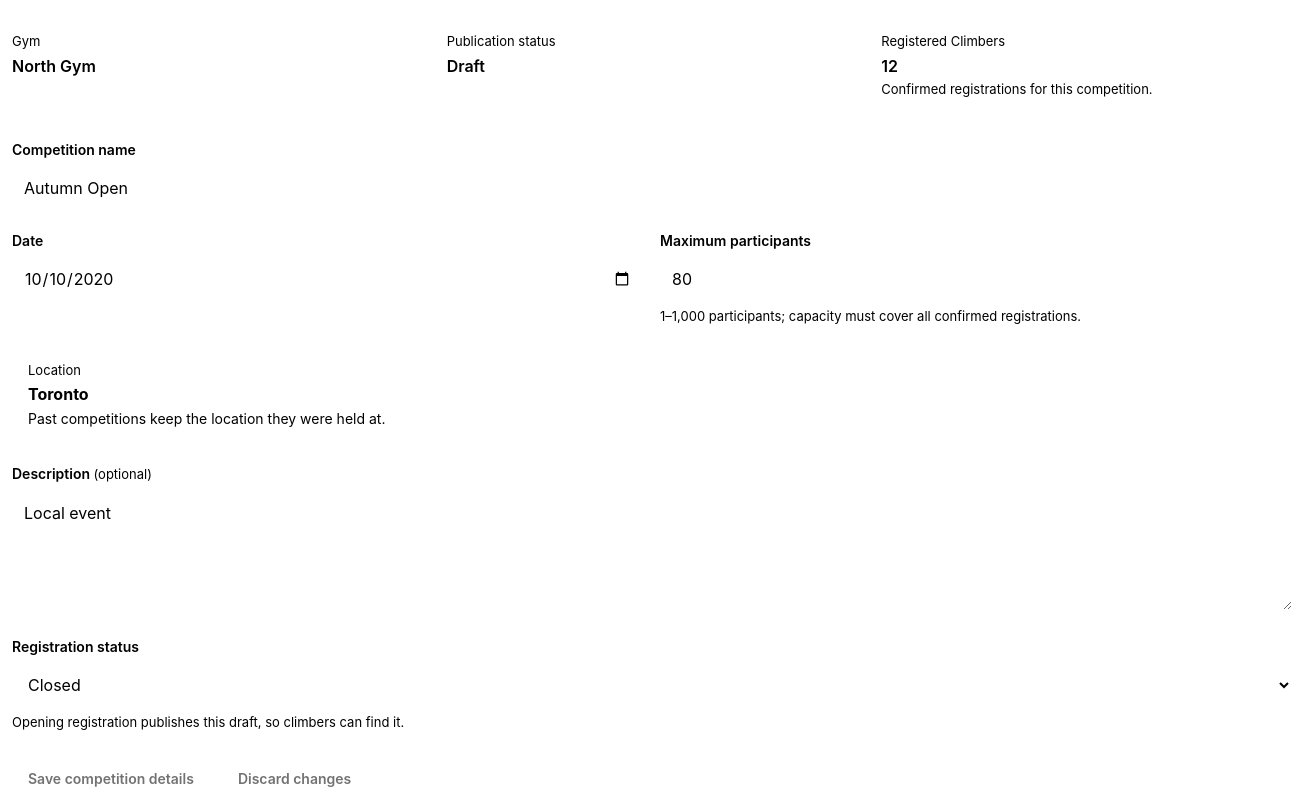
Test: US-013 details and registration count › sends only changed permitted fields for the selected ID, accepts past dates, and updates saved values/count
Replace the text in the field labelled "Competition name" with " Updated Open " at (652, 188), box x1=12 y1=166 x2=1292 y2=210
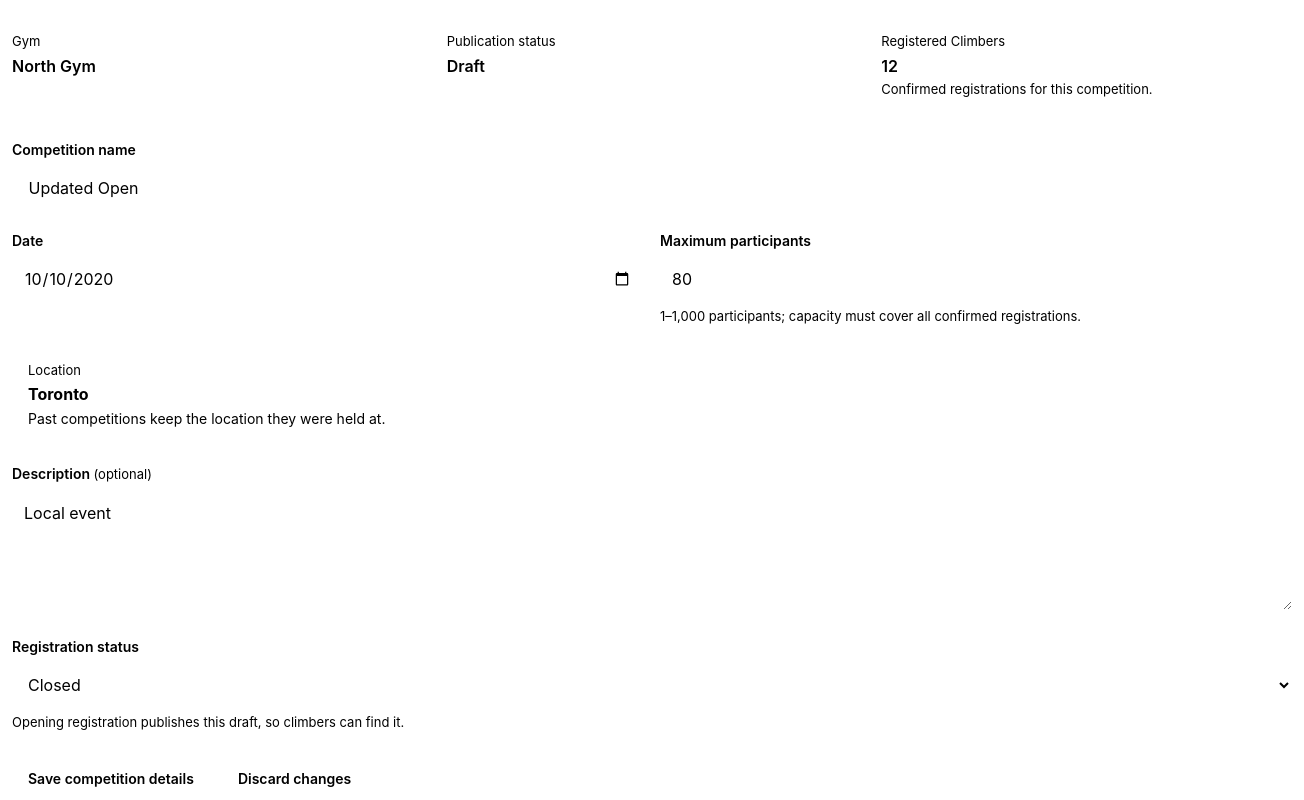
Replace the text in the number field labelled "Maximum participants" with "90" at (976, 279), box x1=660 y1=257 x2=1292 y2=301
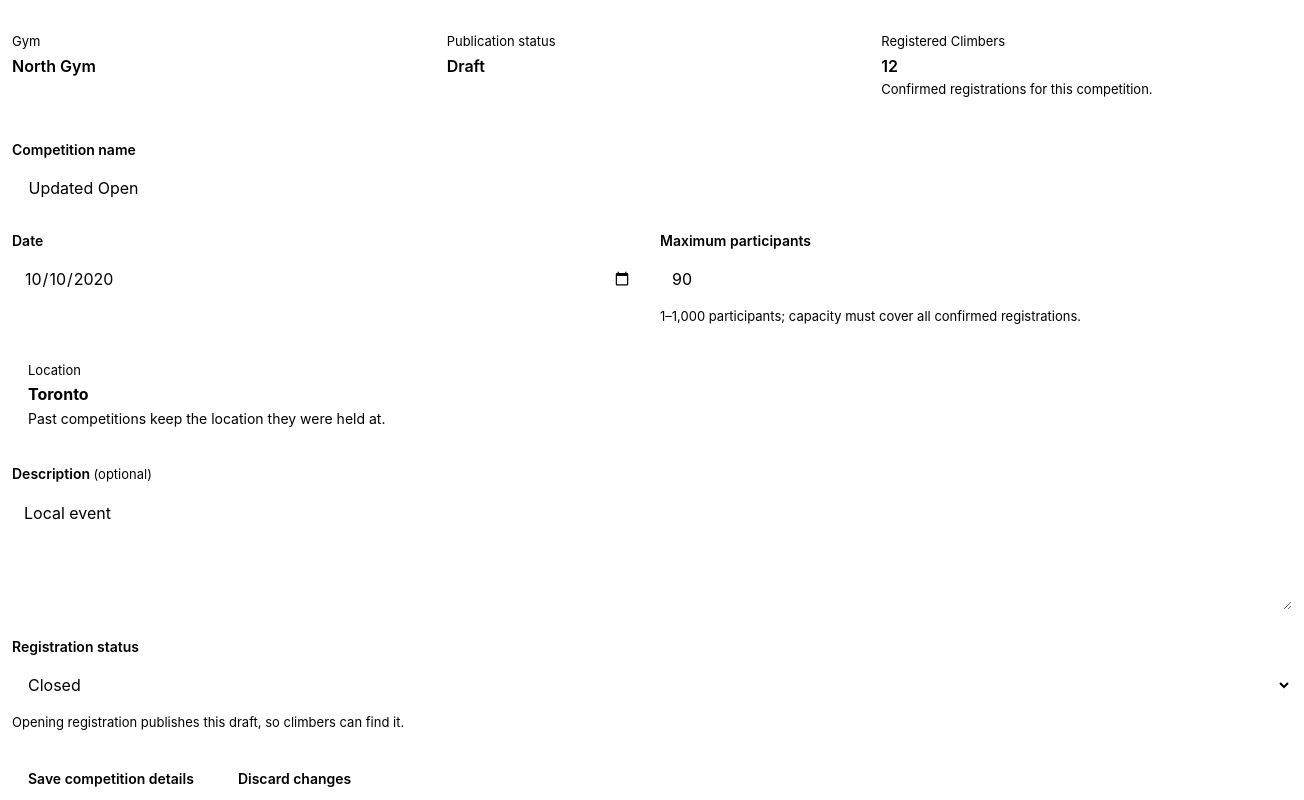
Select "Open" in the dropdown labelled "Registration status" at (652, 685), box x1=12 y1=663 x2=1292 y2=707
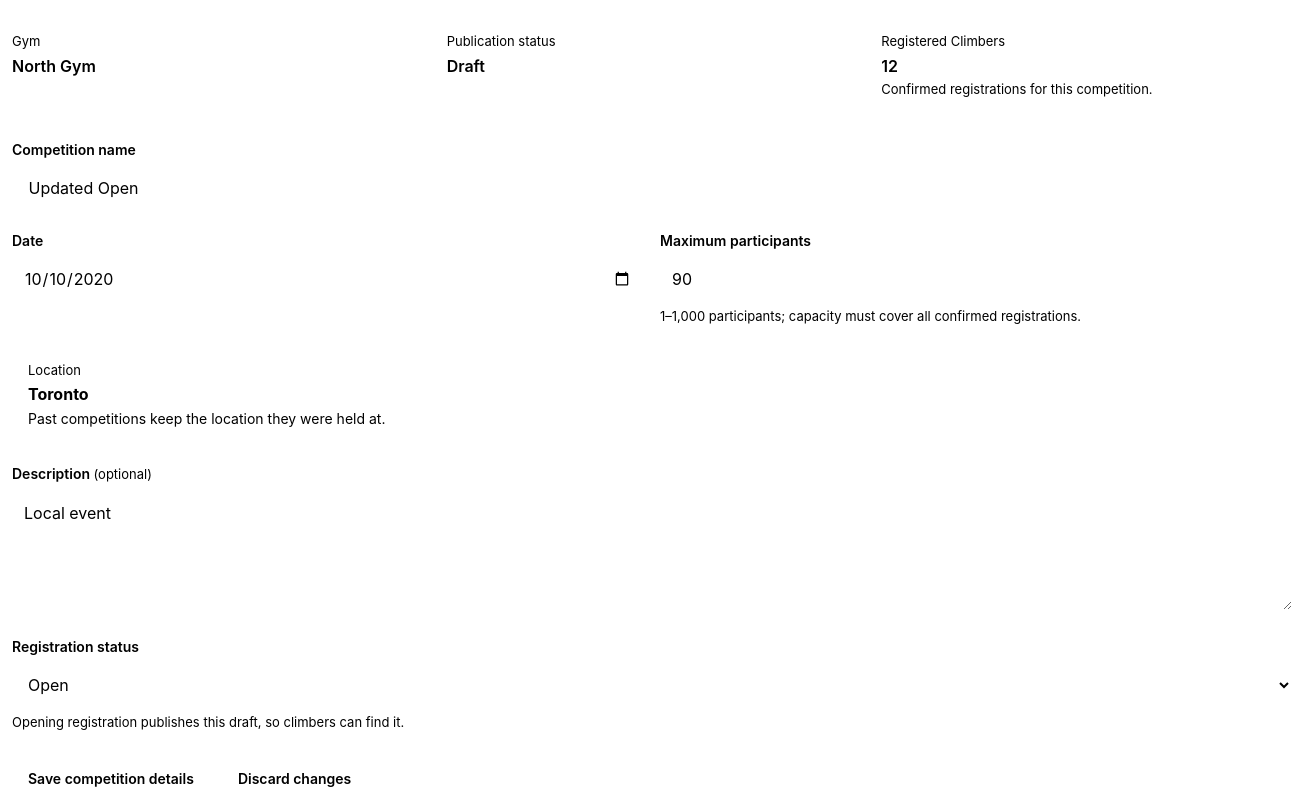
Submit the form named "Edit competition details"
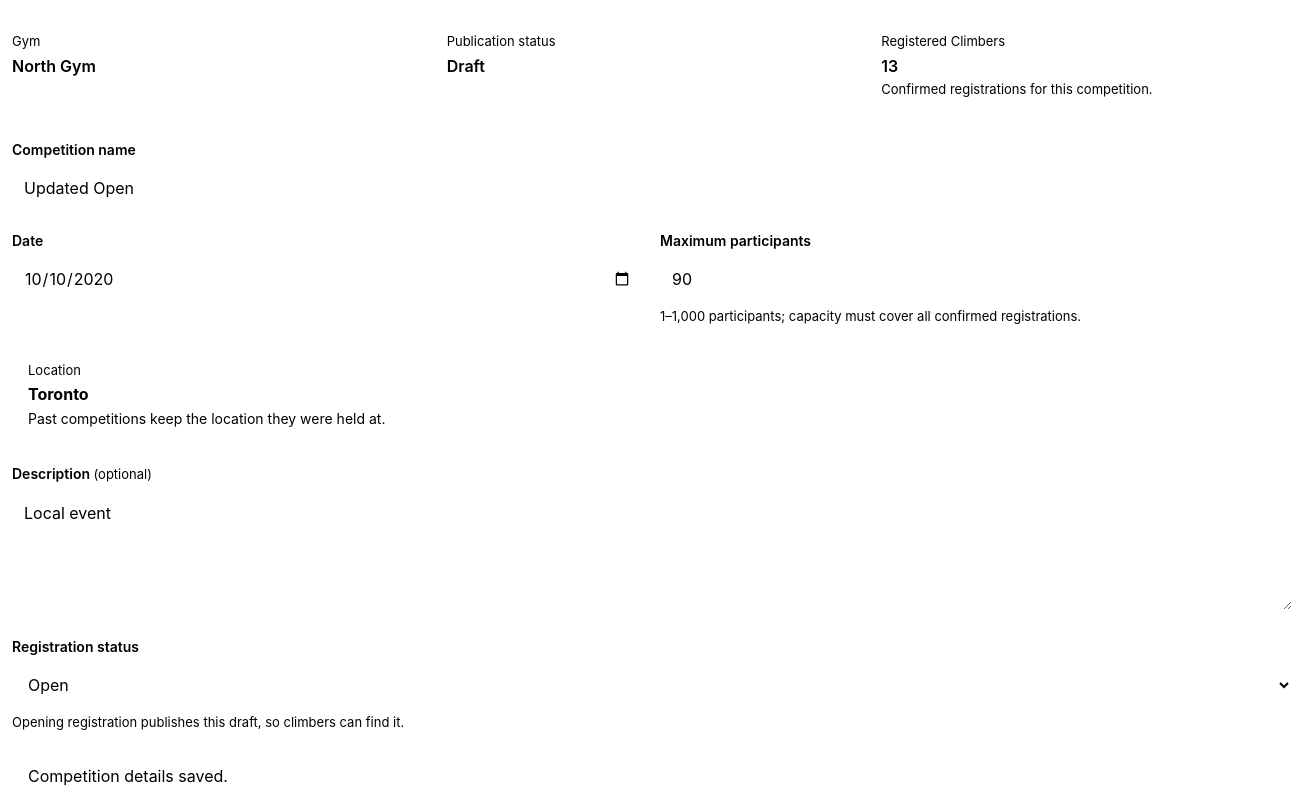
Result: the text "Competition details saved." is shown at x1=28 y1=766 x2=228 y2=786
Result: the text "13" is shown at x1=881 y1=56 x2=898 y2=76
